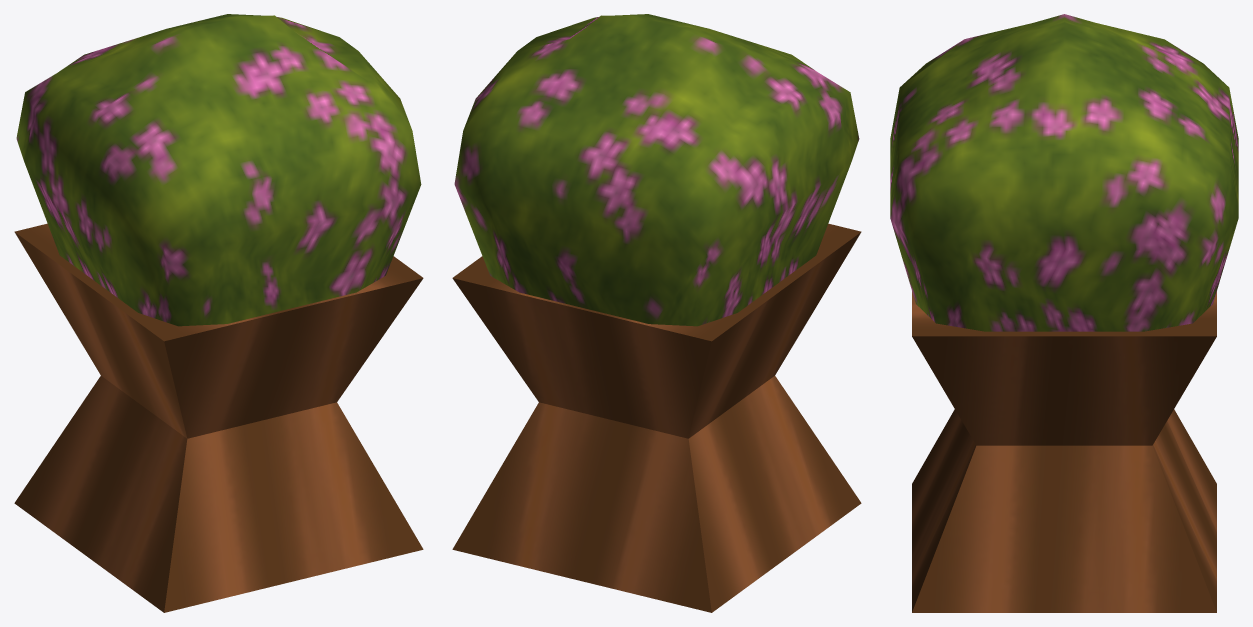
The model's file is VEG0310044.fbx.
3 renders of one model, left to right at view 1: azimuth 30°, elevation 25°; view 2: azimuth 150°, elevation 25°; view 3: azimuth 270°, elevation 25°, orthographic.
Parts seen in each view (by area): view 1: smVEG0310044; view 2: smVEG0310044; view 3: smVEG0310044.
Boxes of the visible parts, x1,y1,x2,y2 form: smVEG0310044: [14, 14, 423, 612]; smVEG0310044: [452, 14, 861, 612]; smVEG0310044: [890, 14, 1238, 612].
Size of the model in its own units: 67.63 by 110 by 67.63.
Materials: 1 (1 with a texture image).
